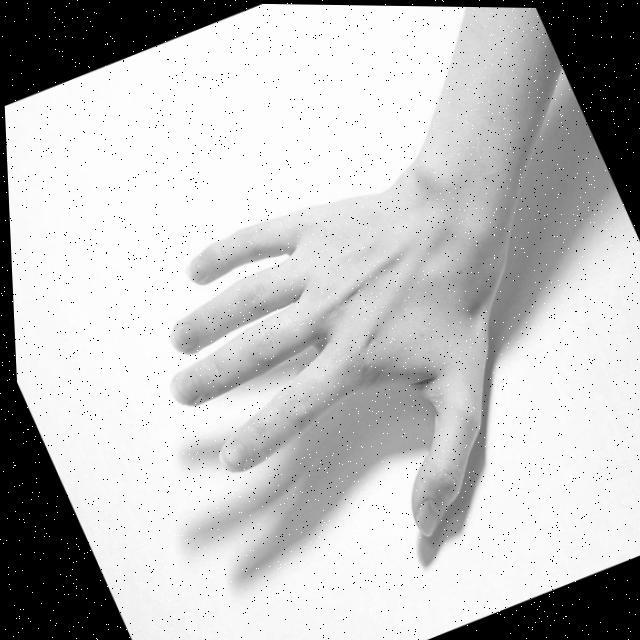no-gloves: (107, 150, 563, 610)
